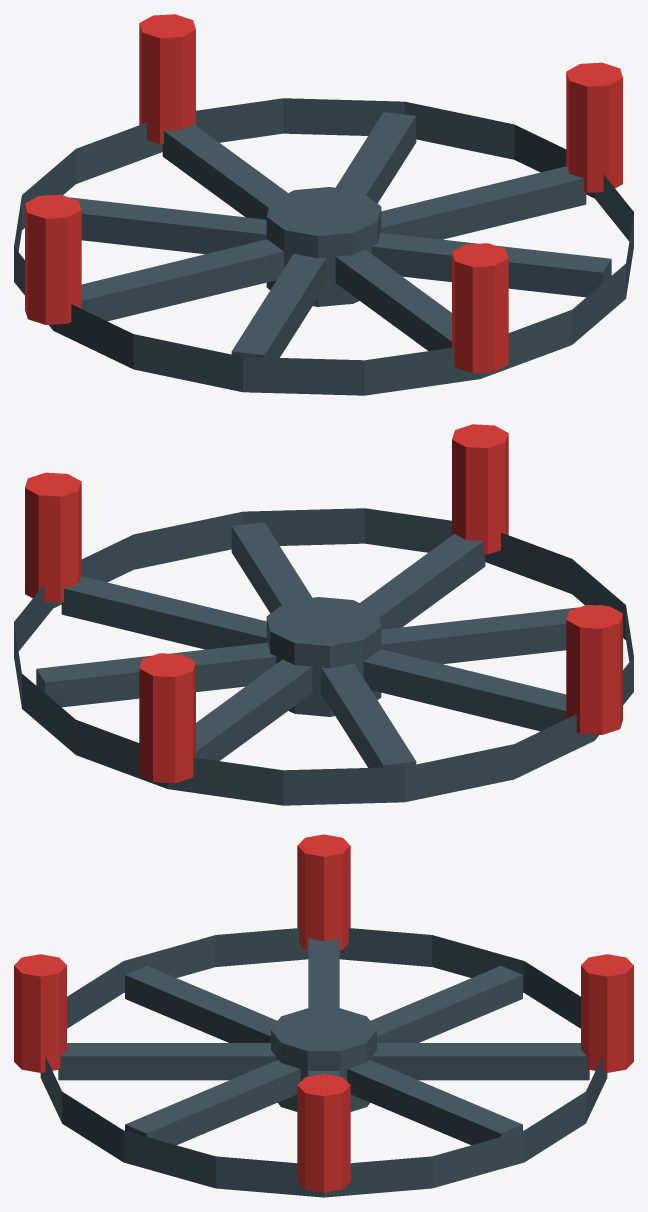
The model's file is Spin_Peynir.fbx.
3 views of the same model, one above another, from view 1: azimuth 30°, elevation 25°; view 2: azimuth 150°, elevation 25°; view 3: azimuth 270°, elevation 25° (orthographic). The views are drawn at different scales.
Parts seen in each view (by area): view 1: Spin_Peynir; view 2: Spin_Peynir; view 3: Spin_Peynir.
Part boxes in pixels (x1,y1,x2,y2): Spin_Peynir: [14, 14, 633, 395]; Spin_Peynir: [14, 424, 633, 805]; Spin_Peynir: [14, 834, 633, 1197].
Size of the model in its own units: 70 by 16 by 70.
